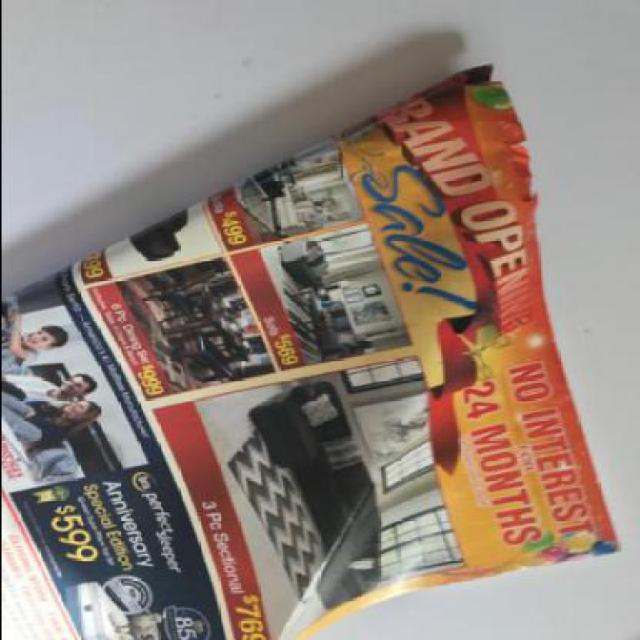PAPER: (1, 63, 617, 639)
